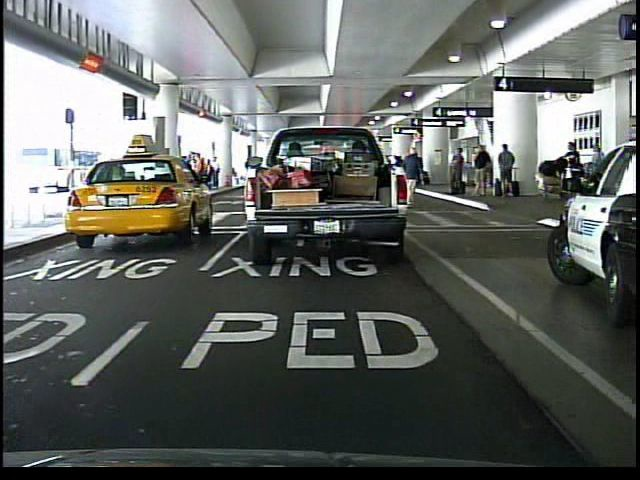person: (351, 139, 384, 220), (400, 145, 426, 214), (587, 139, 612, 200), (562, 139, 585, 200)
